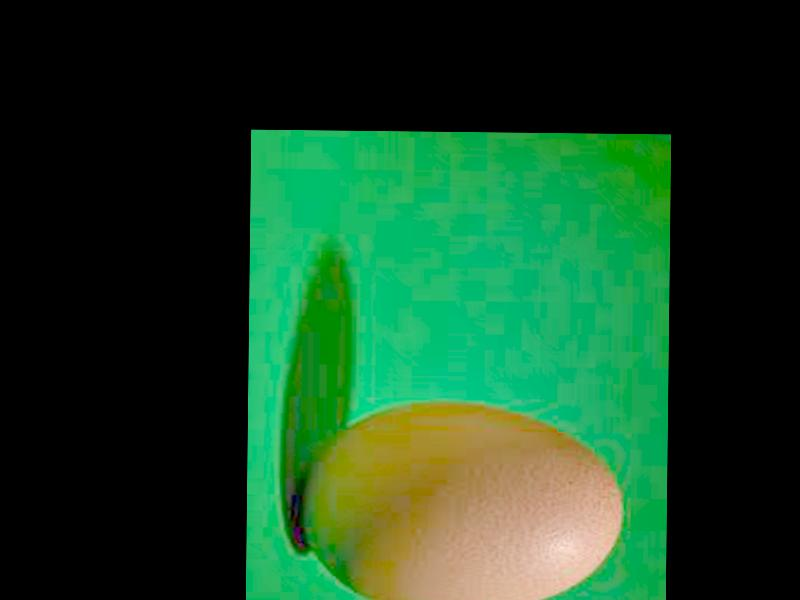Eggs: (300, 400, 621, 600)
